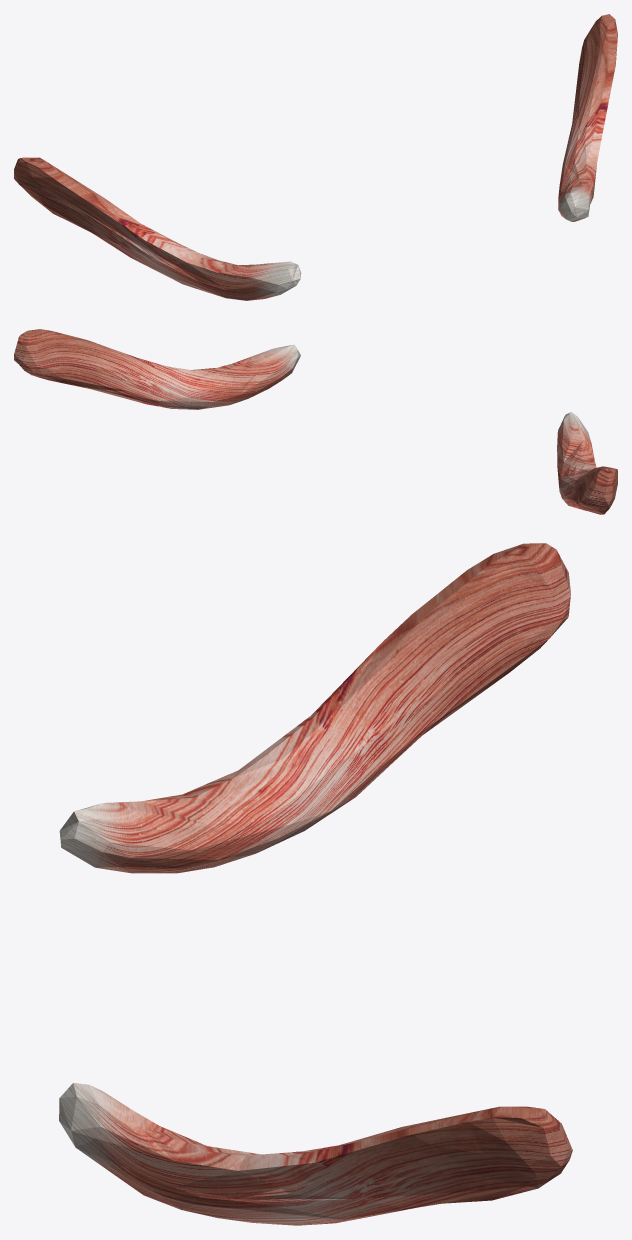
The model's file is Risorius.obj.
3 views of the same model, one above another, from view 1: azimuth 30°, elevation 25°; view 2: azimuth 150°, elevation 25°; view 3: azimuth 270°, elevation 25° (orthographic). The views are drawn at different scales.
Visible parts, largest first — view 1: Musculos_Cabeza_1:Risorius:Risorius; view 2: Musculos_Cabeza_1:Risorius:Risorius; view 3: Musculos_Cabeza_1:Risorius:Risorius.
Part boxes in pixels (box(x1,y1,x2,y2)): Musculos_Cabeza_1:Risorius:Risorius: box(14, 14, 617, 300); Musculos_Cabeza_1:Risorius:Risorius: box(14, 329, 617, 514); Musculos_Cabeza_1:Risorius:Risorius: box(59, 543, 572, 1225).
Size of the model in its own units: 0.5265 by 0.0894 by 0.1962.
Materials: 1 (1 with a texture image).
